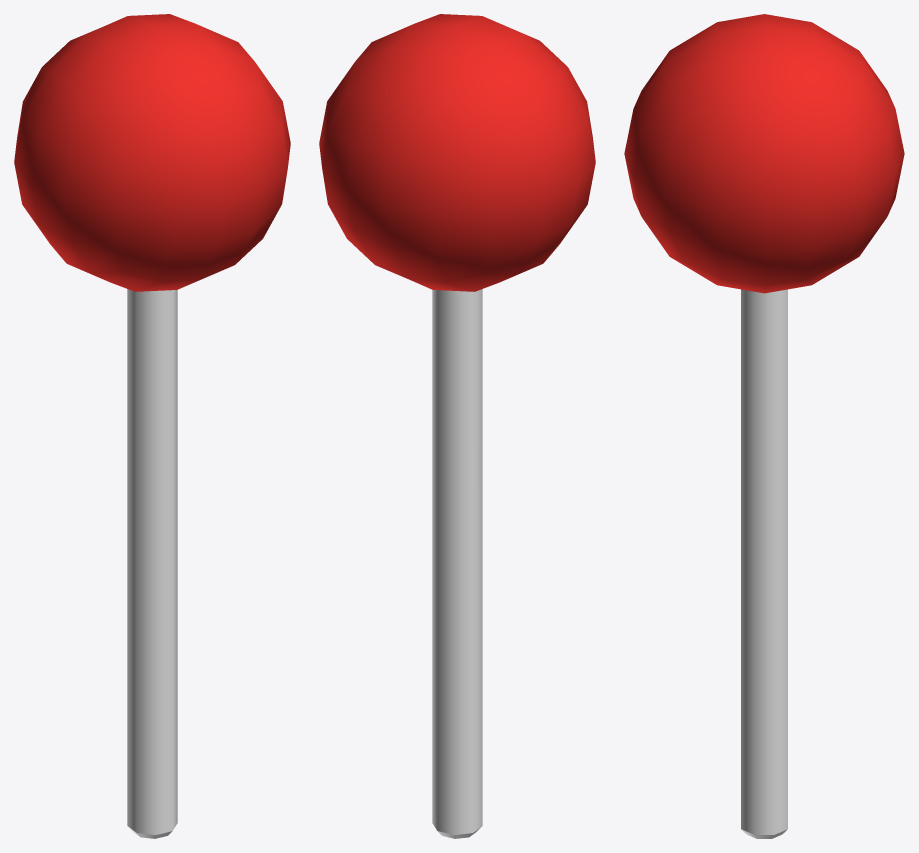
Rendered from Candy_28.fbx.
The picture shows the model from 3 angles, left to right: view 1: azimuth 30°, elevation 25°; view 2: azimuth 150°, elevation 25°; view 3: azimuth 270°, elevation 25°; orthographic projection.
Parts seen in each view (by area): view 1: Candy_28; view 2: Candy_28; view 3: Candy_28.
Part boxes in pixels (x1=…): Candy_28: x1=14, y1=14, x2=290, y2=838; Candy_28: x1=319, y1=14, x2=595, y2=838; Candy_28: x1=624, y1=14, x2=904, y2=838.
Bounding box in the file's own units: 0.8302 × 2.63 × 0.8302.
